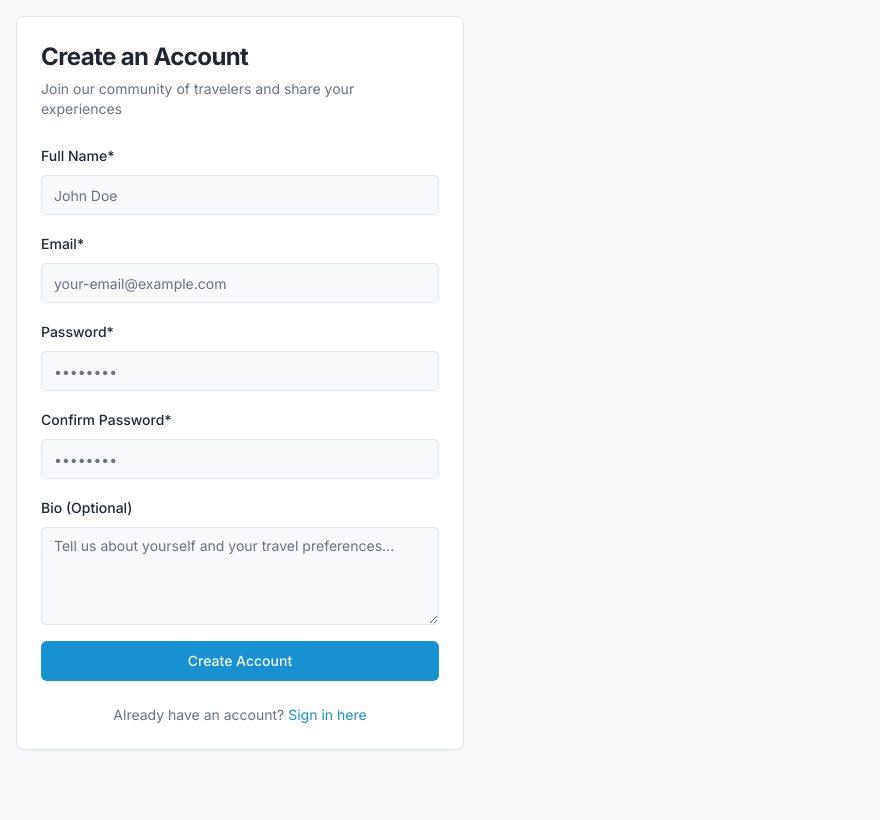
it: Register Page › validates password confirmation
Fill in form fields with non-matching passwords
Step 1. Type "Test User" into the field labelled "Full Name*" → (240, 195), box top-left (41, 175), bottom-right (439, 215)
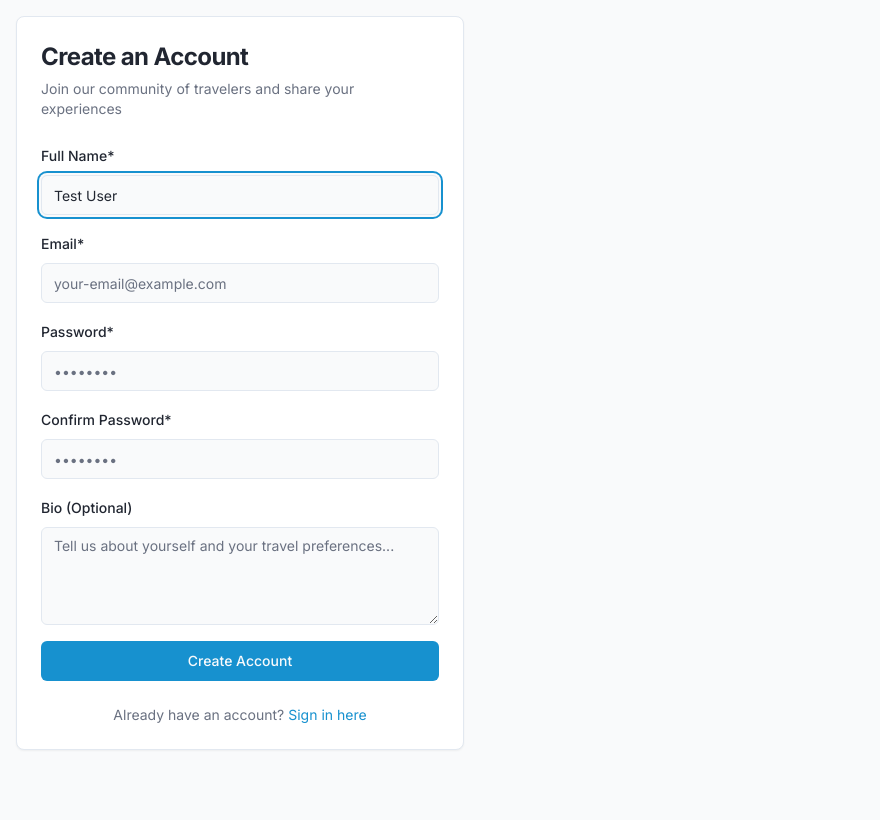
Step 2. Type "test@example.com" into the field labelled "Email*" → (240, 283), box top-left (41, 263), bottom-right (439, 303)
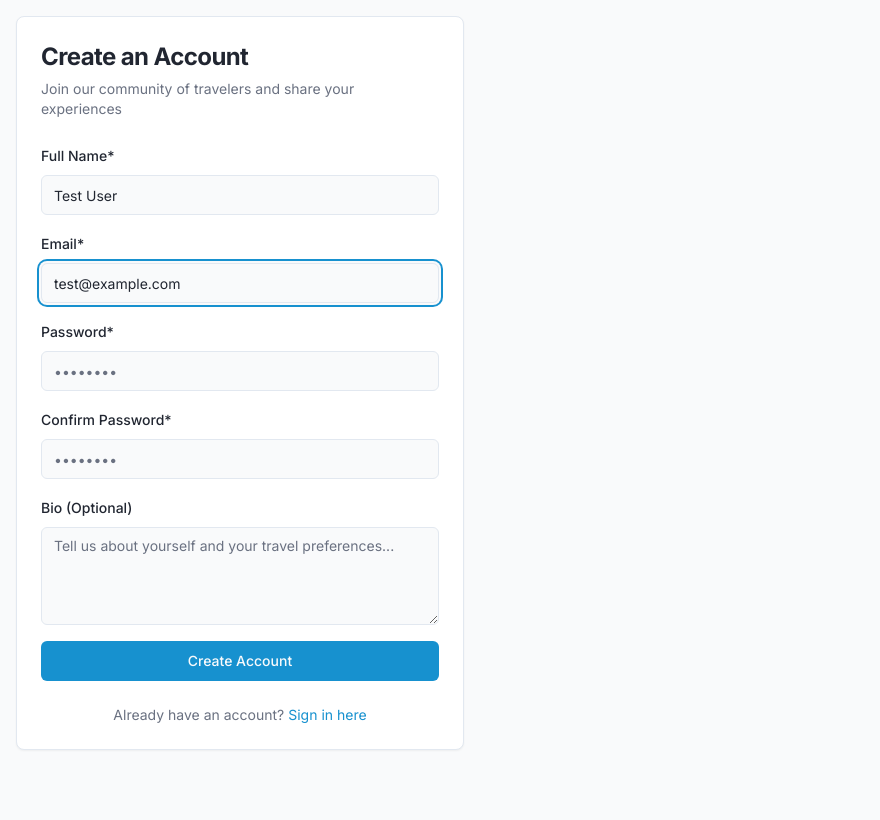
Step 3. Type "password123" into the password field labelled "Password*" → (240, 371), box top-left (41, 351), bottom-right (439, 391)
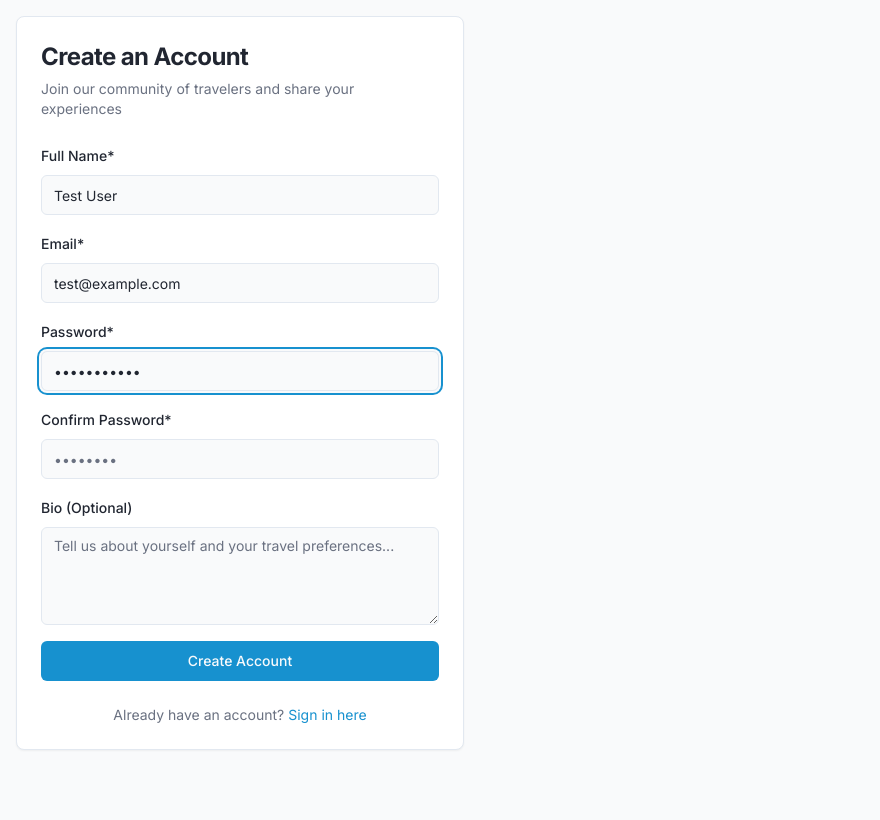
Step 4. Type "password456" into the password field labelled "Confirm Password*" → (240, 459), box top-left (41, 439), bottom-right (439, 479)
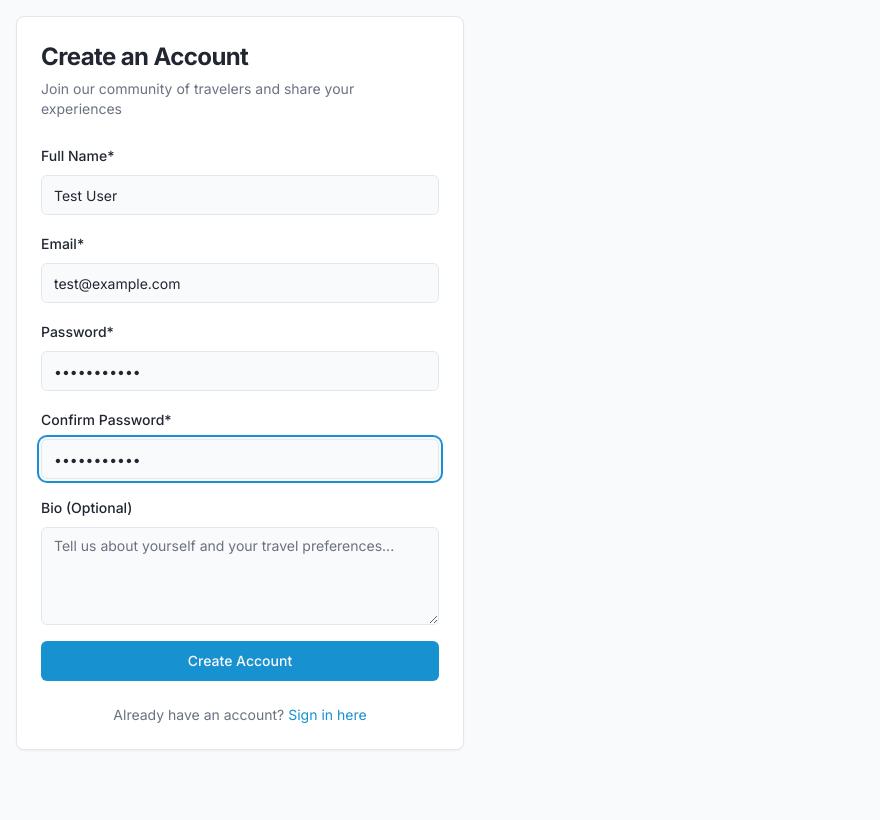
Submit the form
Step 5. Click the button "Create Account" → (240, 661), box top-left (41, 641), bottom-right (439, 681)
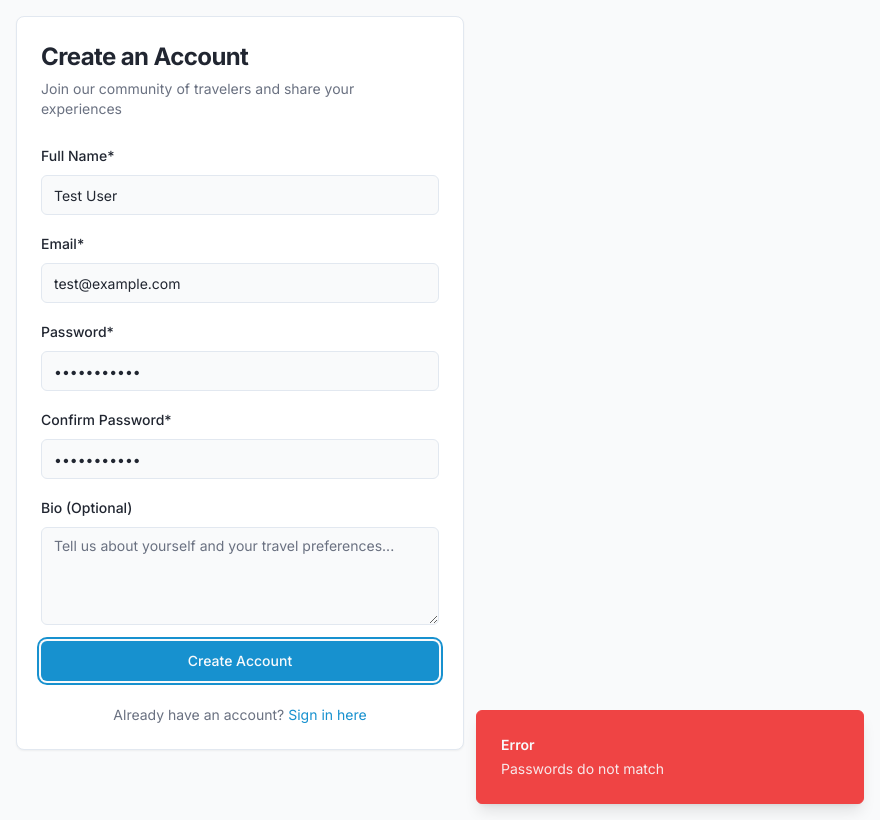
Check: the text "Passwords do not match" is shown, box top-left (501, 759), bottom-right (664, 779)
